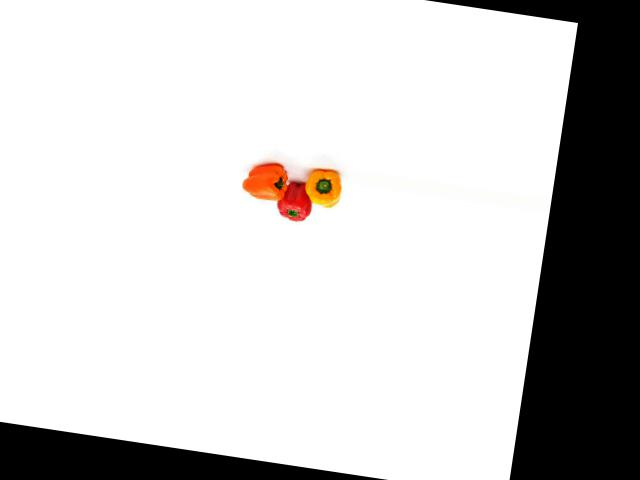bell_pepper: (297, 165, 346, 211)
